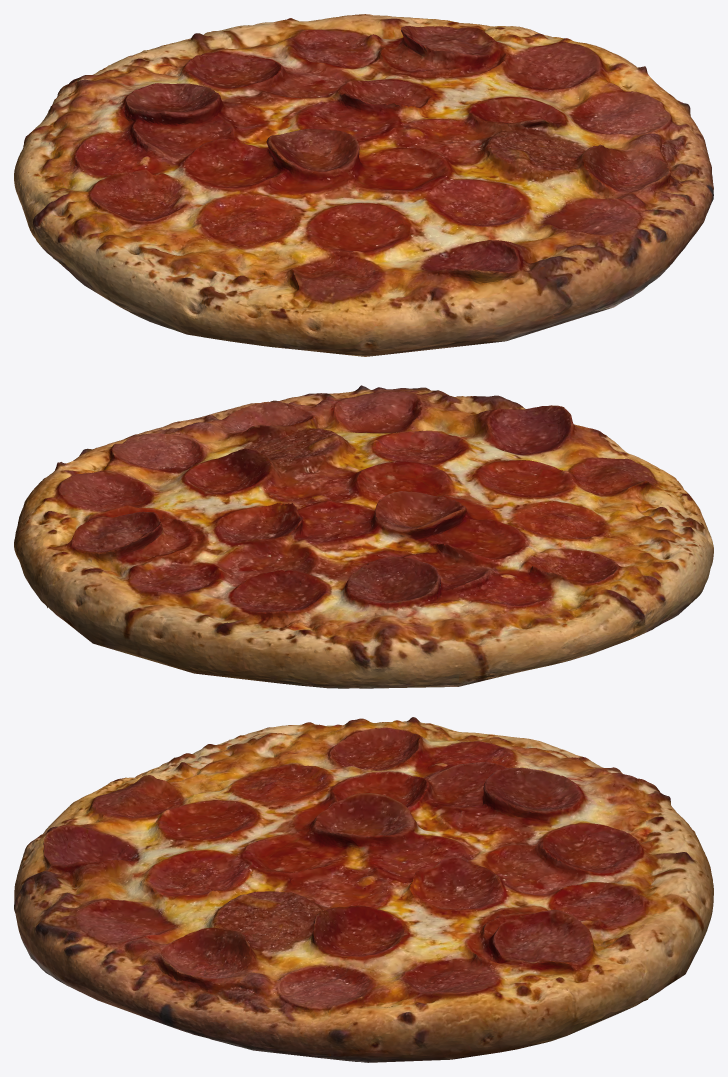
The picture shows the model from 3 angles, top to bottom: view 1: azimuth 30°, elevation 25°; view 2: azimuth 150°, elevation 25°; view 3: azimuth 270°, elevation 25°; orthographic projection. The views are drawn at different scales.
Parts seen in each view (by area): view 1: mesh_0; view 2: mesh_0; view 3: mesh_0.
Boxes of the visible parts, left/top/right/bottom form: mesh_0: left=14, top=14, right=713, bottom=356; mesh_0: left=14, top=385, right=713, bottom=688; mesh_0: left=14, top=717, right=713, bottom=1062.
Size of the model in its own units: 0.2936 by 0.0369 by 0.284.
Materials: 1 (1 with a texture image).
